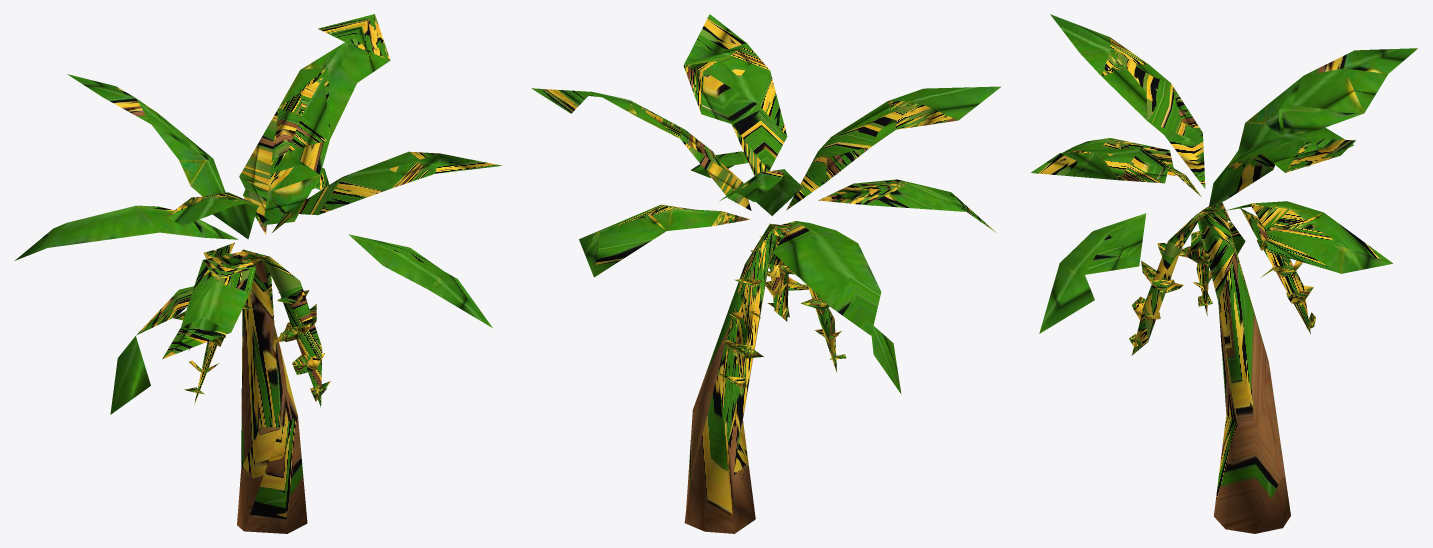
The model's file is banana-3-far.glb.
The picture shows the model from 3 angles, left to right: view 1: azimuth 30°, elevation 25°; view 2: azimuth 150°, elevation 25°; view 3: azimuth 270°, elevation 25°; orthographic projection. The views are drawn at different scales.
Parts seen in each view (by area): view 1: geometry_0; view 2: geometry_0; view 3: geometry_0.
Boxes of the visible parts, left/top/right/bottom form: geometry_0: left=15, top=14, right=502, bottom=533; geometry_0: left=531, top=14, right=1000, bottom=533; geometry_0: left=1031, top=14, right=1417, bottom=533.
Bounding box in the file's own units: 0.7891 × 0.939 × 0.7505.
1 material, 1 textured.
